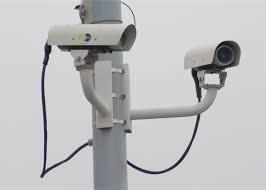tutu: (42, 21, 140, 55), (179, 38, 246, 74)
